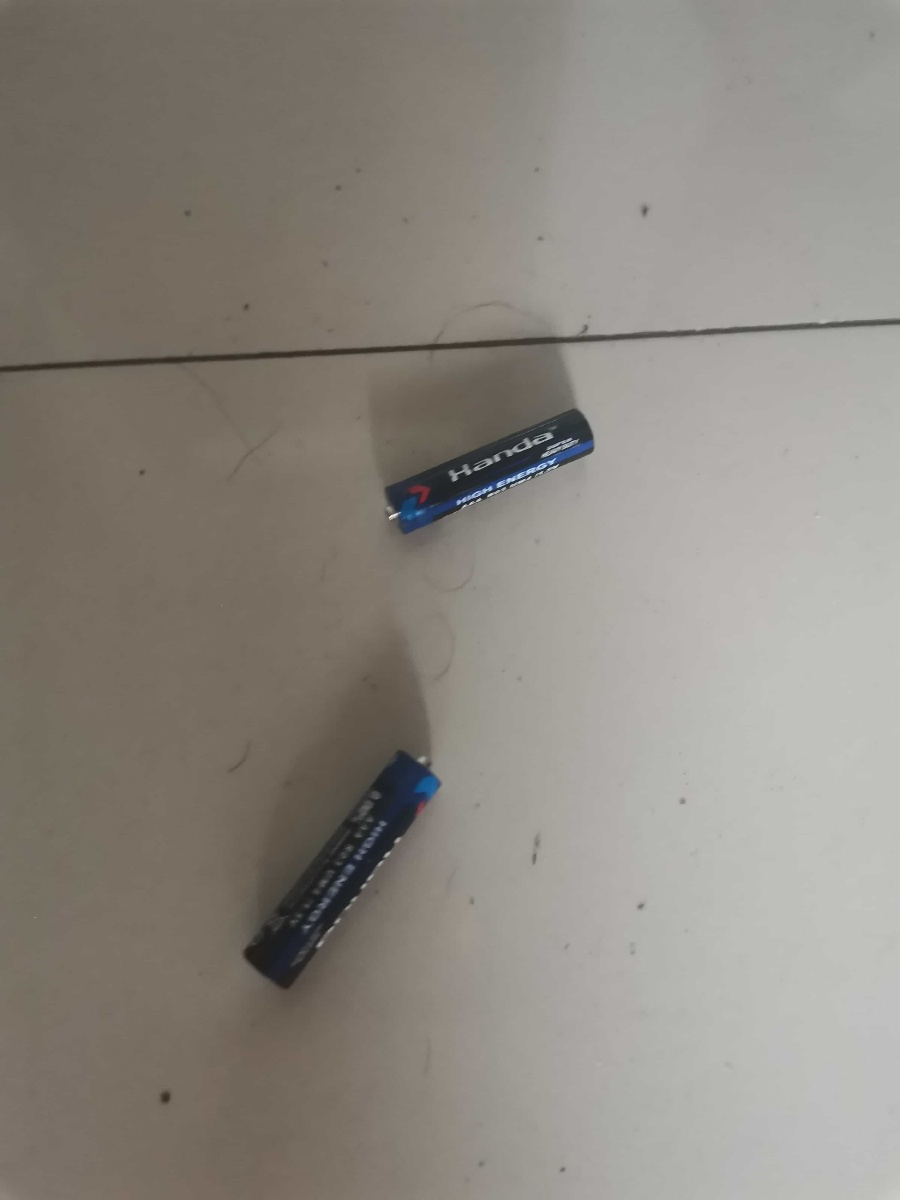battery: (236, 742, 451, 999), (376, 403, 605, 544)
